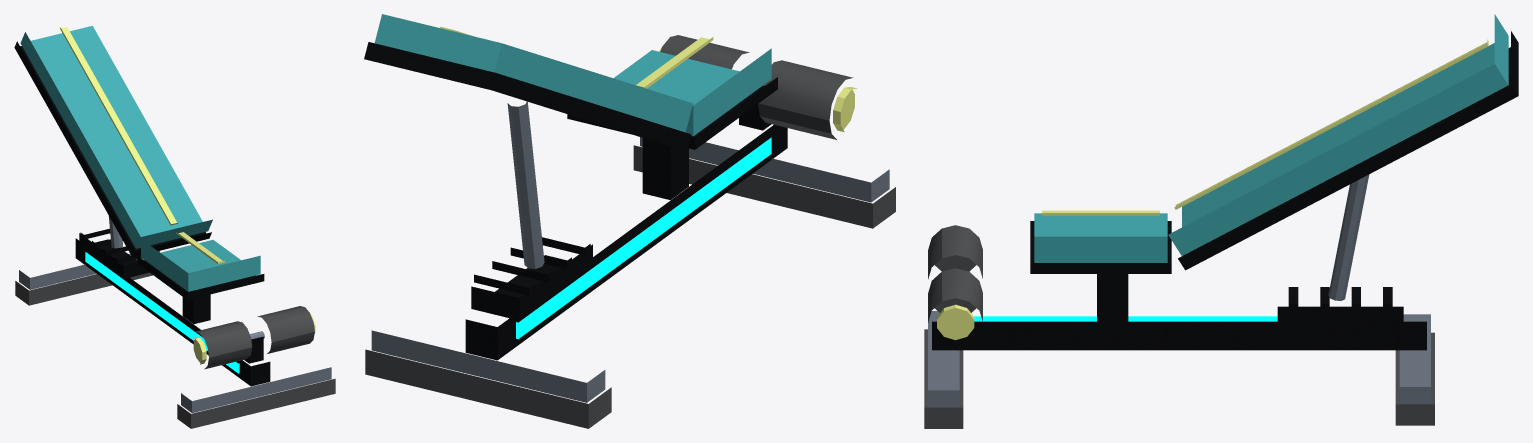
File: tt_gym_bench.glb
3 views of the same model, side by side, from view 1: azimuth 30°, elevation 25°; view 2: azimuth 150°, elevation 25°; view 3: azimuth 270°, elevation 25° (orthographic). The views are drawn at different scales.
Parts seen in each view (by area): view 1: Back_Pad, Frame_Weldment, Rubber_Feet, Seat_Pad, Leg_Rollers, Feet_Steel, Back_Pad_Line, Court_Line_LED, Seat_Pad_Line, Roller_Caps; view 2: Frame_Weldment, Rubber_Feet, Back_Pad, Feet_Steel, Leg_Rollers, Seat_Pad, Court_Line_LED, Strut_Hinge, Seat_Pad_Line, Roller_Caps; view 3: Frame_Weldment, Back_Pad, Seat_Pad, Feet_Steel, Leg_Rollers, Rubber_Feet, Strut_Hinge, Back_Pad_Line, Court_Line_LED, Roller_Caps, Seat_Pad_Line.
Part boxes in pixels (x1=…): Back_Pad: x1=20, y1=26, x2=212, y2=248; Frame_Weldment: x1=14, y1=41, x2=270, y2=386; Rubber_Feet: x1=15, y1=272, x2=335, y2=428; Seat_Pad: x1=141, y1=239, x2=260, y2=291; Leg_Rollers: x1=194, y1=306, x2=314, y2=369; Feet_Steel: x1=19, y1=251, x2=331, y2=413; Back_Pad_Line: x1=60, y1=27, x2=177, y2=225; Court_Line_LED: x1=85, y1=252, x2=239, y2=373; Seat_Pad_Line: x1=176, y1=232, x2=225, y2=264; Roller_Caps: x1=192, y1=313, x2=315, y2=364; Frame_Weldment: x1=364, y1=42, x2=787, y2=360; Rubber_Feet: x1=365, y1=145, x2=895, y2=428; Back_Pad: x1=374, y1=14, x2=692, y2=132; Feet_Steel: x1=371, y1=137, x2=889, y2=402; Leg_Rollers: x1=660, y1=35, x2=853, y2=139; Seat_Pad: x1=614, y1=48, x2=771, y2=136; Court_Line_LED: x1=516, y1=137, x2=771, y2=339; Strut_Hinge: x1=507, y1=101, x2=544, y2=268; Seat_Pad_Line: x1=636, y1=37, x2=713, y2=88; Roller_Caps: x1=658, y1=44, x2=857, y2=131; Frame_Weldment: x1=932, y1=31, x2=1518, y2=350; Back_Pad: x1=1168, y1=14, x2=1508, y2=255; Seat_Pad: x1=1034, y1=213, x2=1167, y2=262; Feet_Steel: x1=928, y1=311, x2=1430, y2=407; Leg_Rollers: x1=928, y1=225, x2=982, y2=322; Rubber_Feet: x1=924, y1=329, x2=1434, y2=428; Strut_Hinge: x1=1328, y1=174, x2=1369, y2=300; Back_Pad_Line: x1=1174, y1=39, x2=1488, y2=209; Court_Line_LED: x1=974, y1=316, x2=1277, y2=321; Roller_Caps: x1=937, y1=304, x2=974, y2=340; Seat_Pad_Line: x1=1042, y1=210, x2=1159, y2=215.
Size of what is drawn, in the model's own units: 0.6 by 0.9556 by 1.51.
Materials: 7 (3 with a texture image).
